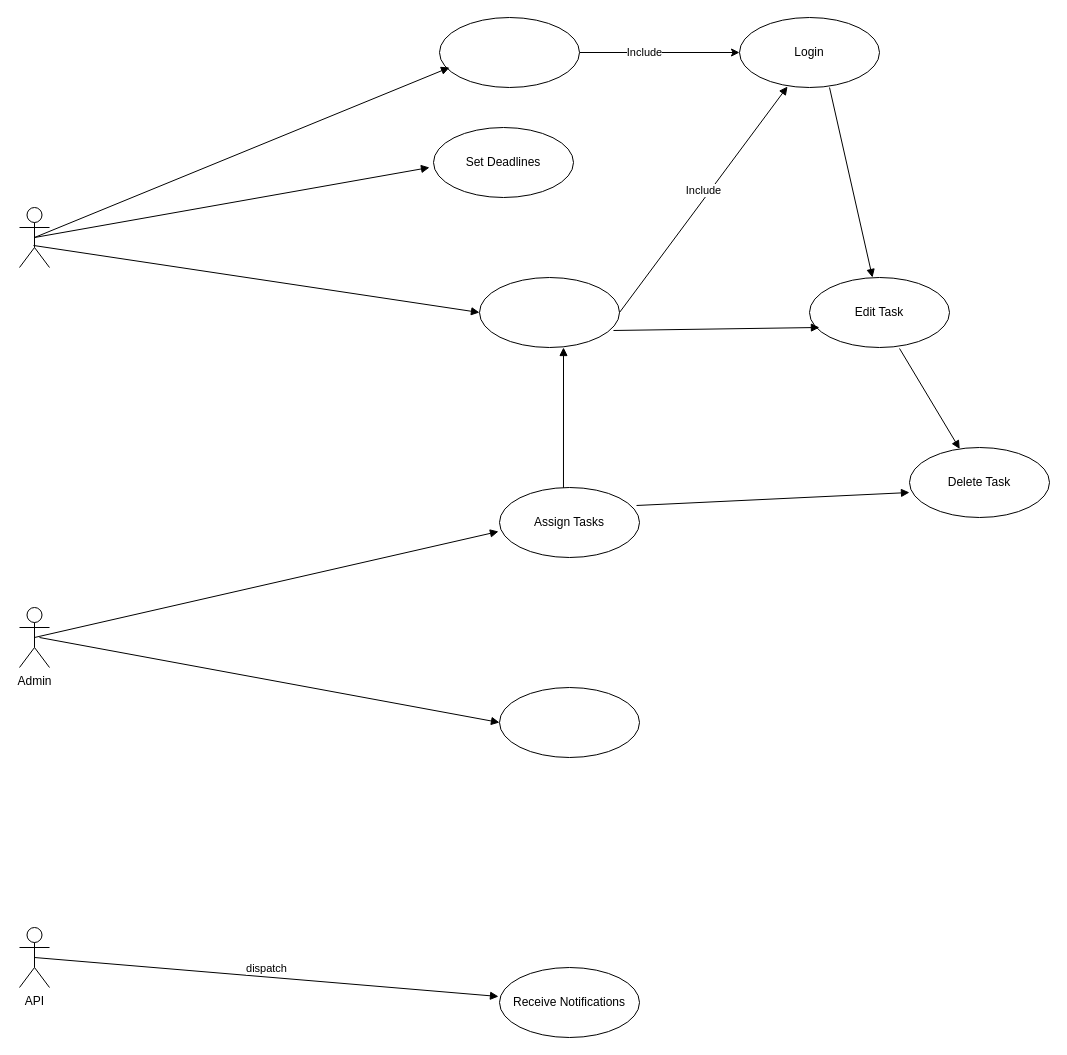
Some shapes in this 1067 by 1055 pixel diagram are drawn without their labels. The box of each missing label's shape, as (x1, y1, x2, y2) in pixels:
Create Task: (478, 276, 620, 348)
Generate Reports: (498, 686, 640, 758)
Mark Task as Complete: (438, 16, 580, 88)
User: (18, 206, 50, 268)
